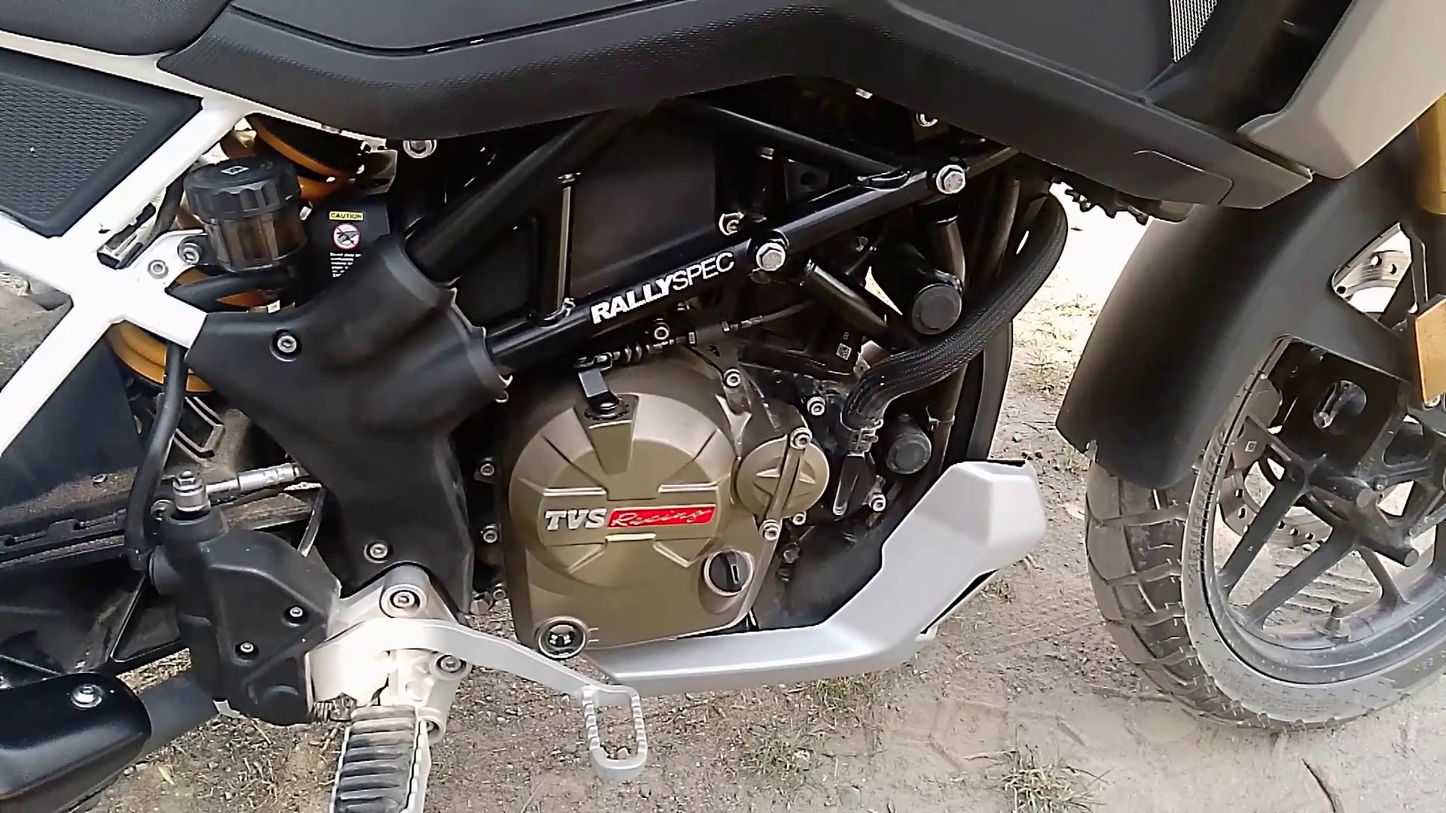bike-engine: (491, 347, 830, 658)
bike-engine-level: (528, 606, 594, 661)
bike-oil-cap: (694, 537, 761, 601)
